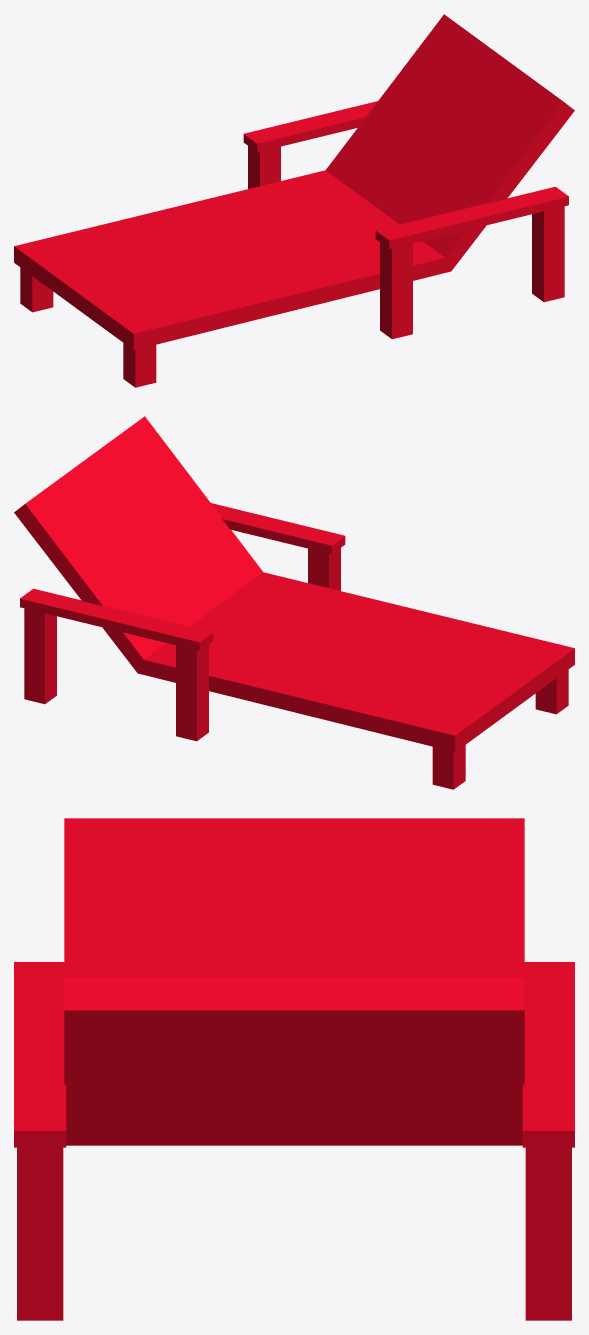
Rendered from pool_chair_03.fbx.
The picture shows the model from 3 angles, top to bottom: view 1: azimuth 30°, elevation 25°; view 2: azimuth 150°, elevation 25°; view 3: azimuth 270°, elevation 25°; orthographic projection. The views are drawn at different scales.
Parts seen in each view (by area): view 1: pool_chair_03; view 2: pool_chair_03; view 3: pool_chair_03.
Part boxes in pixels (<box>): pool_chair_03: <box>14,14,574,387</box>; pool_chair_03: <box>14,416,574,789</box>; pool_chair_03: <box>14,818,574,1320</box>.
Bounding box in the file's own units: 1.74 × 0.6939 × 0.9975.
